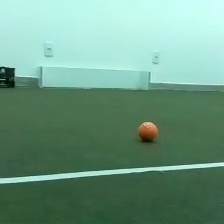ball: (136, 119, 161, 142)
goal: (35, 63, 153, 91)
robot: (1, 64, 18, 89)
